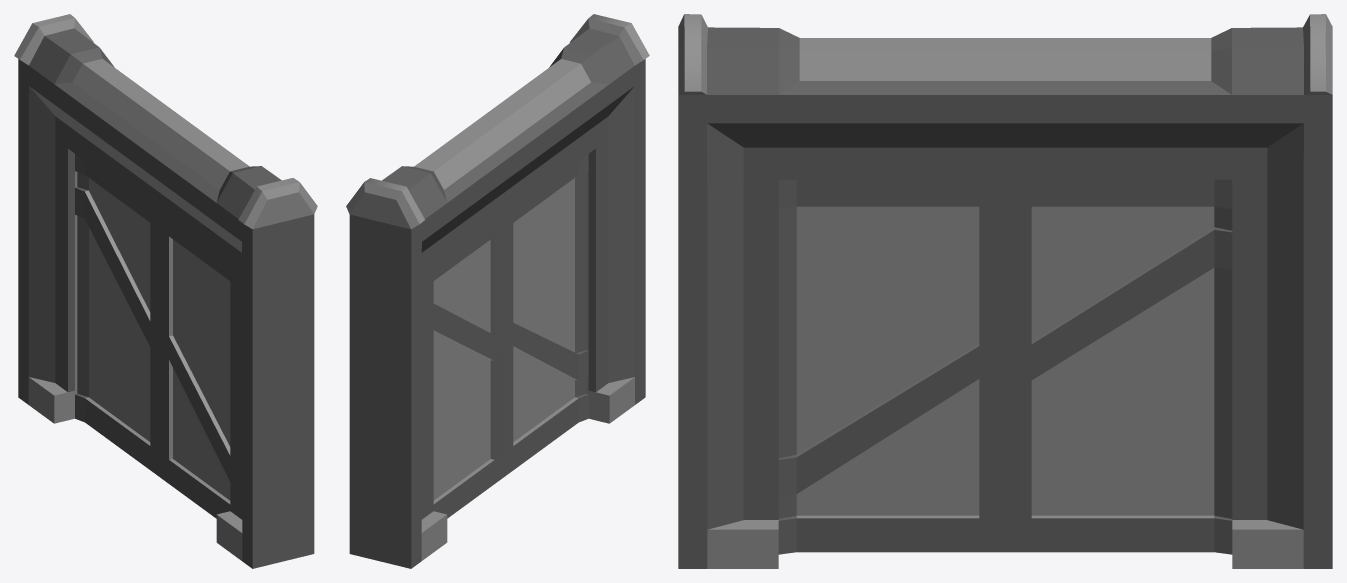
File: Metal_Barrier_Doorway.fbx
3 views of the same model, side by side, from view 1: azimuth 30°, elevation 25°; view 2: azimuth 150°, elevation 25°; view 3: azimuth 270°, elevation 25° (orthographic). The views are drawn at different scales.
Parts seen in each view (by area): view 1: Metal_Barrier_Doorway, Metal_Barrier_Doorway_R, Metal_Barrier_Doorway_L; view 2: Metal_Barrier_Doorway, Metal_Barrier_Doorway_L, Metal_Barrier_Doorway_R; view 3: Metal_Barrier_Doorway, Metal_Barrier_Doorway_L, Metal_Barrier_Doorway_R.
Part boxes in pixels (box(x1,y1,x2,y2)): Metal_Barrier_Doorway: box(14, 14, 317, 568); Metal_Barrier_Doorway_R: box(75, 154, 159, 476); Metal_Barrier_Doorway_L: box(159, 216, 230, 518); Metal_Barrier_Doorway: box(346, 14, 649, 568); Metal_Barrier_Doorway_L: box(504, 154, 588, 476); Metal_Barrier_Doorway_R: box(433, 216, 503, 518); Metal_Barrier_Doorway: box(678, 14, 1332, 568); Metal_Barrier_Doorway_L: box(778, 179, 1005, 554); Metal_Barrier_Doorway_R: box(1005, 179, 1232, 554).
Bounding box in the file's own units: 72.86 × 351 × 400.
